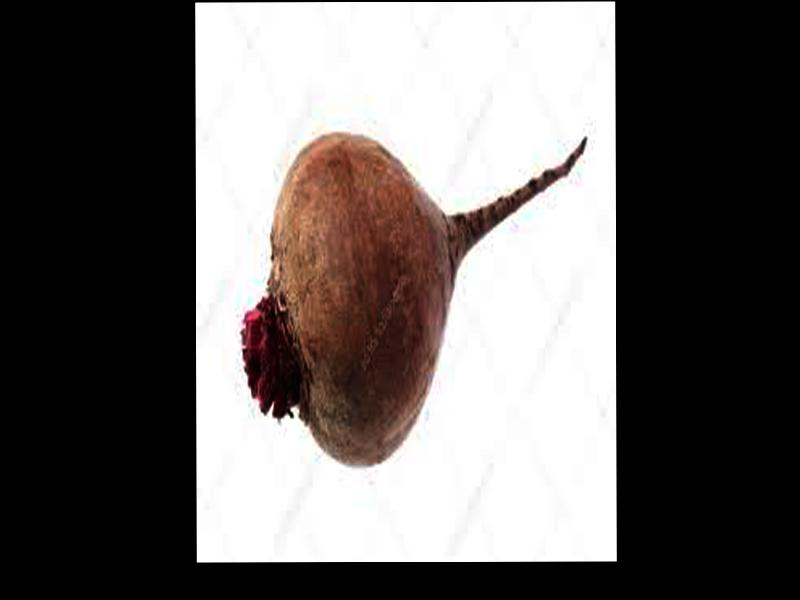Beet: (242, 131, 587, 473)
